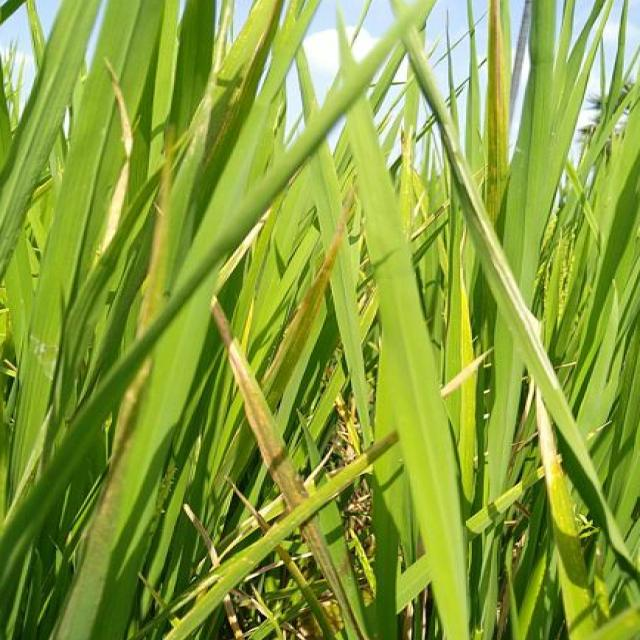Leaf Streak: (190, 432, 397, 610), (444, 131, 562, 395), (69, 361, 152, 640), (211, 299, 307, 510), (189, 0, 282, 180), (264, 216, 348, 388), (136, 125, 178, 340), (482, 0, 512, 180), (301, 523, 348, 612), (441, 350, 493, 399), (535, 389, 559, 485)
